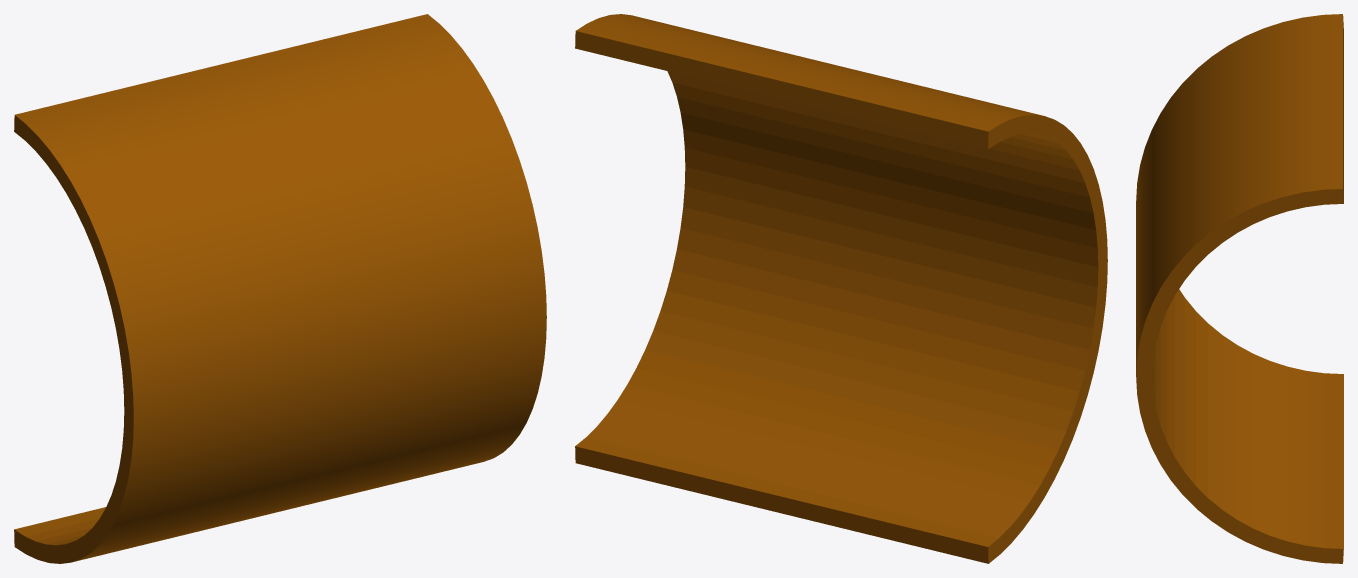
File: pipe_3.glb
3 views of the same model, side by side, from view 1: azimuth 30°, elevation 25°; view 2: azimuth 150°, elevation 25°; view 3: azimuth 270°, elevation 25° (orthographic). The views are drawn at different scales.
Parts seen in each view (by area): view 1: Cylinder.008; view 2: Cylinder.008; view 3: Cylinder.008.
Boxes of the visible parts, x1=… form: Cylinder.008: x1=14, y1=14, x2=546, y2=563; Cylinder.008: x1=575, y1=14, x2=1107, y2=563; Cylinder.008: x1=1136, y1=14, x2=1343, y2=563.
Size of the model in its own units: 2 by 2 by 1.
